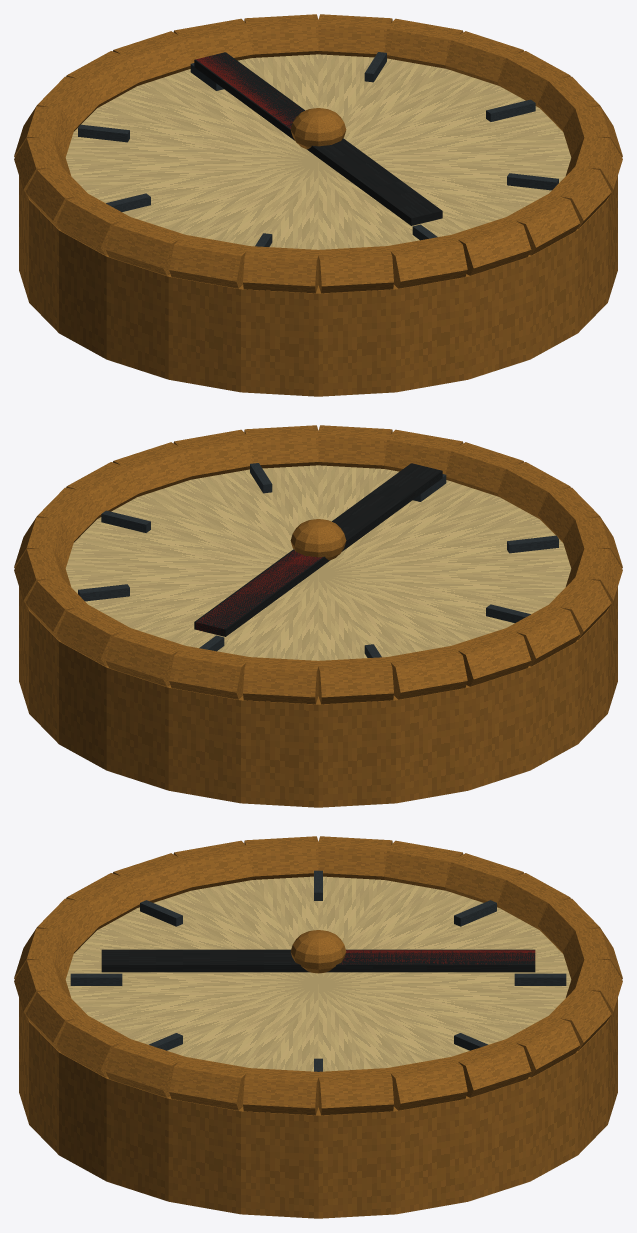
File: SM_marine_compass.gltf
3 renders of one model, top to bottom at view 1: azimuth 30°, elevation 25°; view 2: azimuth 150°, elevation 25°; view 3: azimuth 270°, elevation 25°, orthographic.
Parts seen in each view (by area): view 1: root, needle; view 2: root, needle; view 3: root, needle.
Boxes of the visible parts, bbox=[...] form: root: bbox=[14, 14, 622, 396]; needle: bbox=[194, 52, 442, 225]; root: bbox=[14, 425, 622, 807]; needle: bbox=[194, 463, 442, 636]; root: bbox=[14, 836, 622, 1218]; needle: bbox=[101, 930, 535, 973].
Size of the model in its own units: 0.5896 by 0.17 by 0.5896.
Materials: 5 (5 with a texture image).
